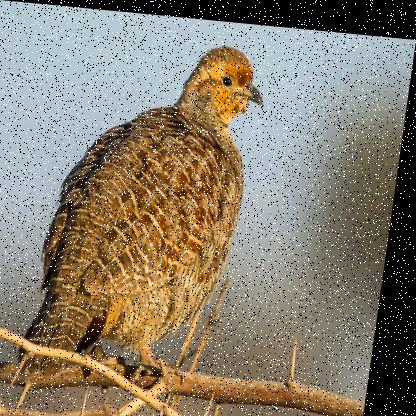Burung: (26, 29, 271, 386)
